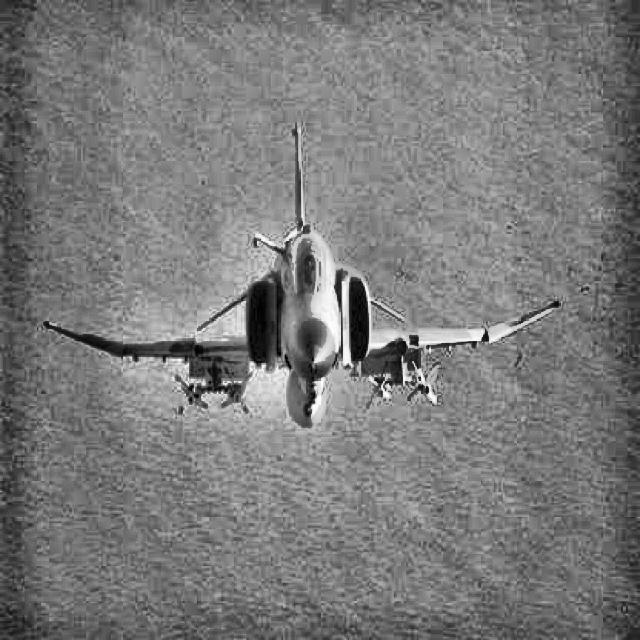F4: (43, 120, 560, 428)
